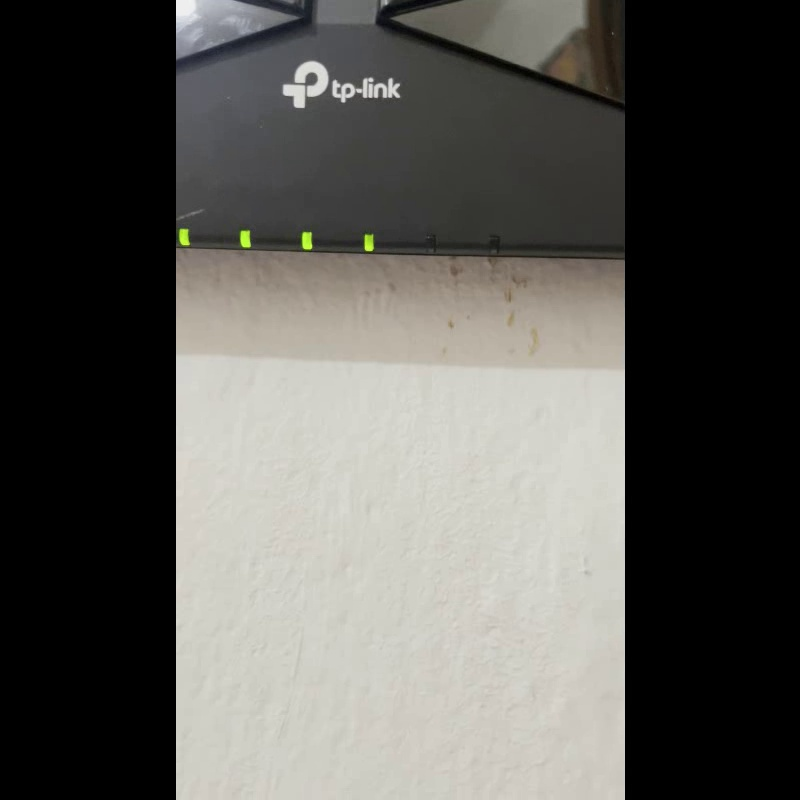off: (487, 236, 499, 253), (425, 234, 435, 252)
on_green: (301, 231, 312, 250), (239, 229, 250, 247), (363, 232, 373, 251), (179, 227, 189, 244)
